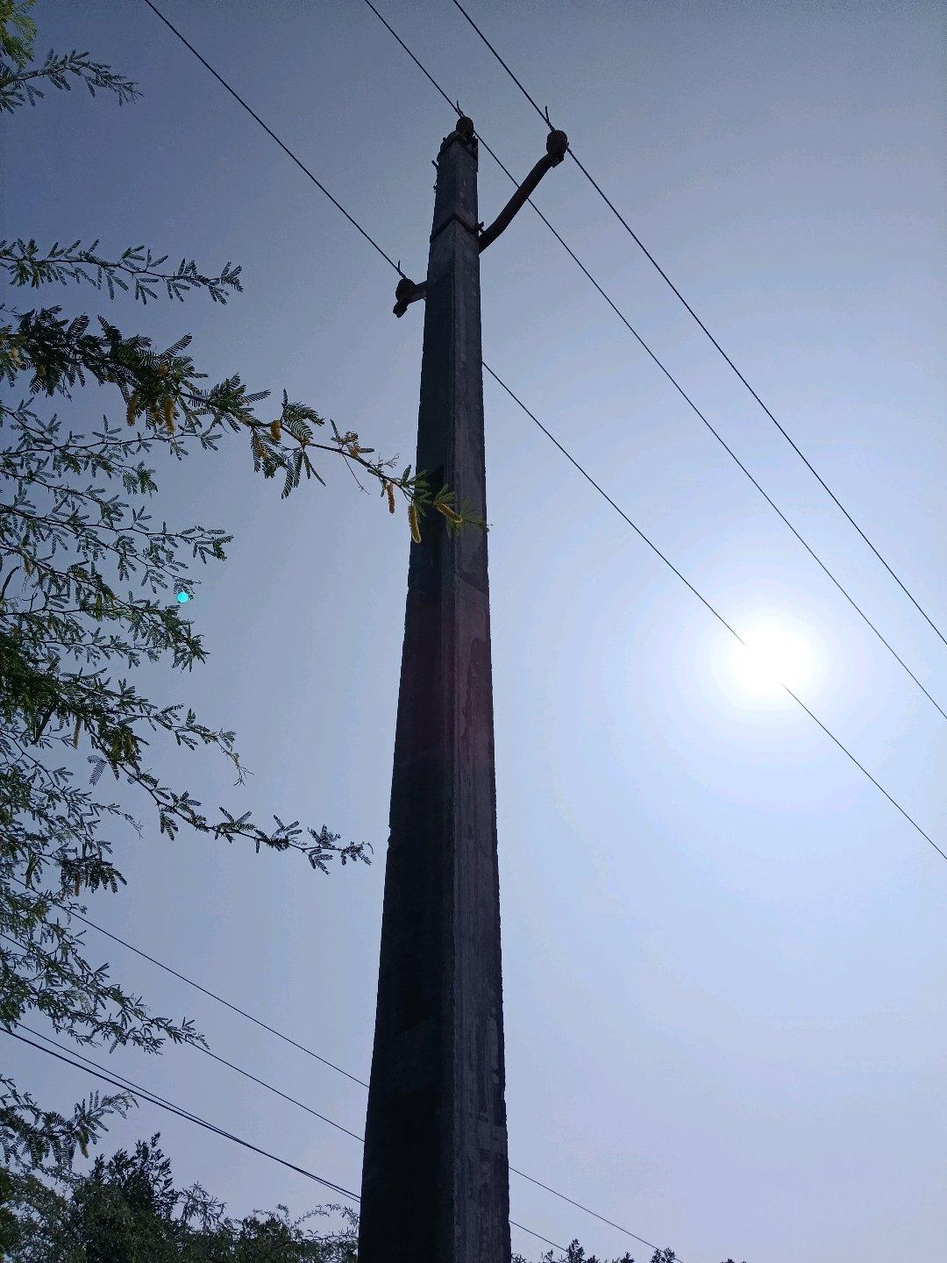{"0" "insulator", "1" "pole", "2" "crossarm", "3" "conductor", "4" "street_: (360, 115, 568, 1262), (239, 101, 251, 116), (255, 119, 258, 122)
